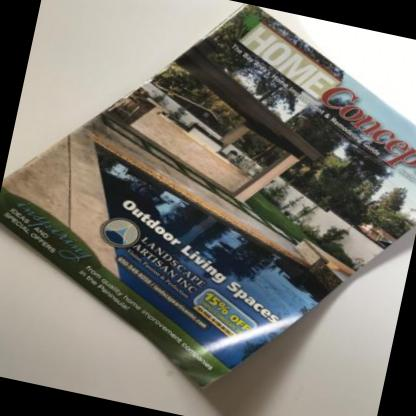Paper: (0, 4, 416, 387)
